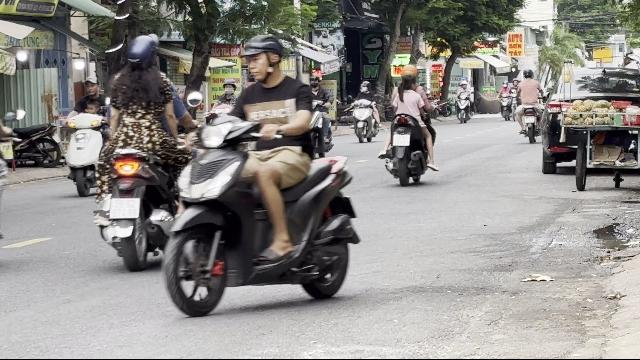helmet: (238, 35, 286, 85), (126, 33, 160, 70), (399, 64, 416, 84)
licenseplate: (110, 198, 138, 218), (394, 134, 410, 146)
motorcyclist: (156, 33, 364, 316), (88, 32, 202, 272), (378, 63, 438, 184)
nohelmet: (400, 74, 418, 92)
